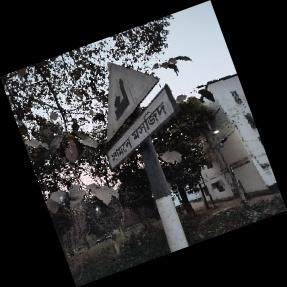Mosque in front: (104, 61, 180, 171)
